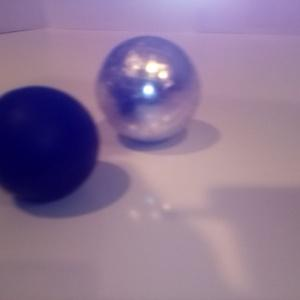alive_ball: (96, 35, 201, 142)
dead_ball: (1, 85, 99, 203)
